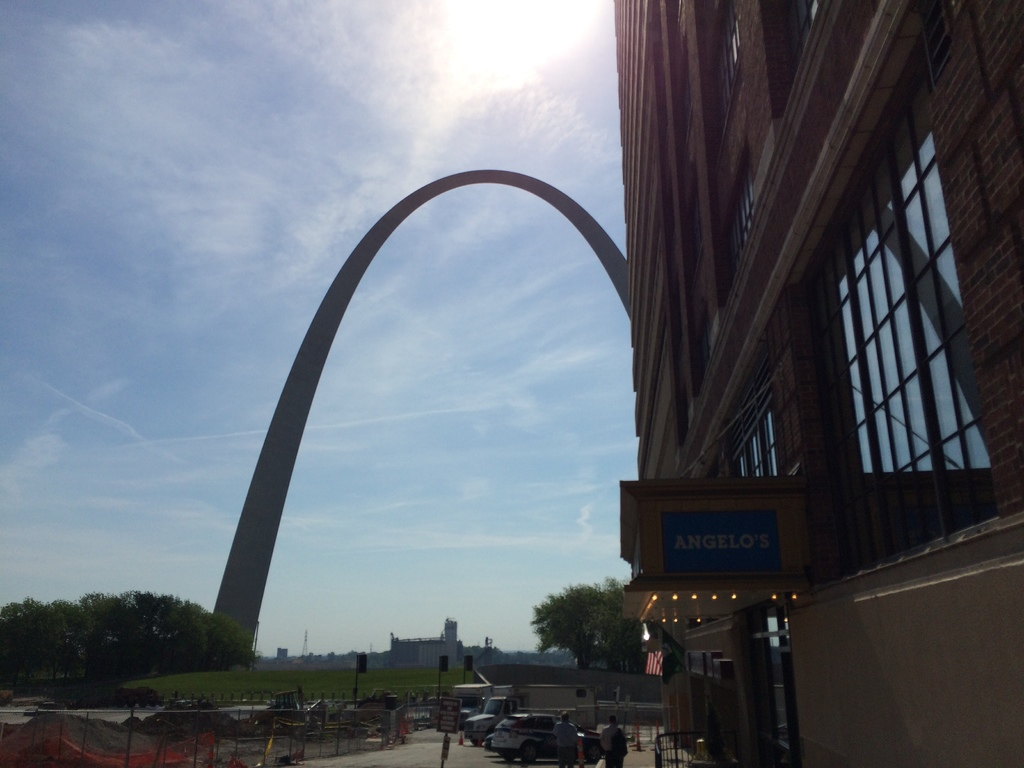car: (483, 711, 610, 764)
truck: (465, 676, 599, 747)
